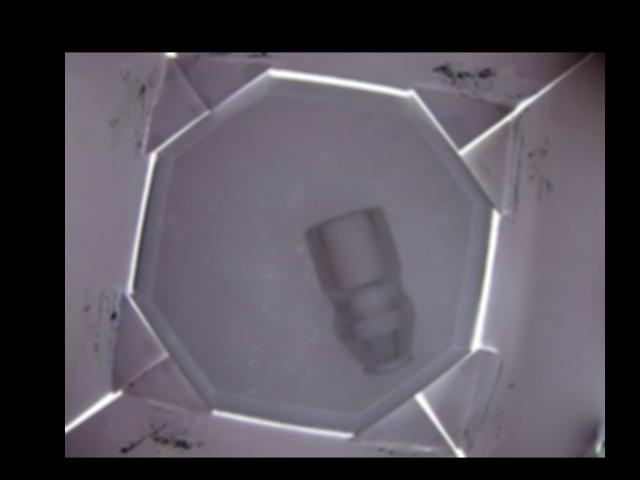Bottle: (304, 203, 414, 372)
